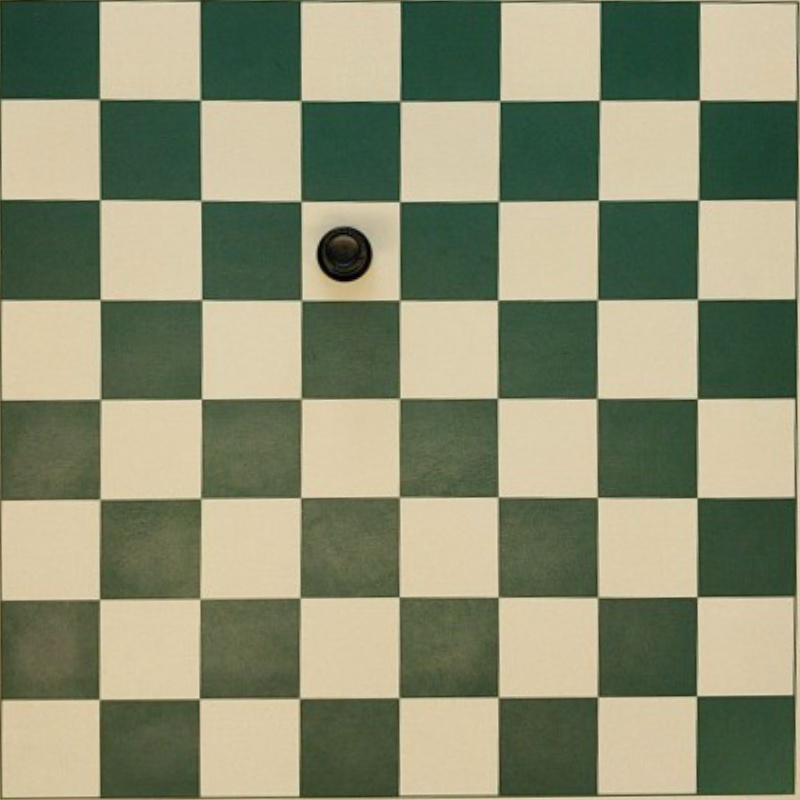black-rook: (316, 227, 372, 281)
